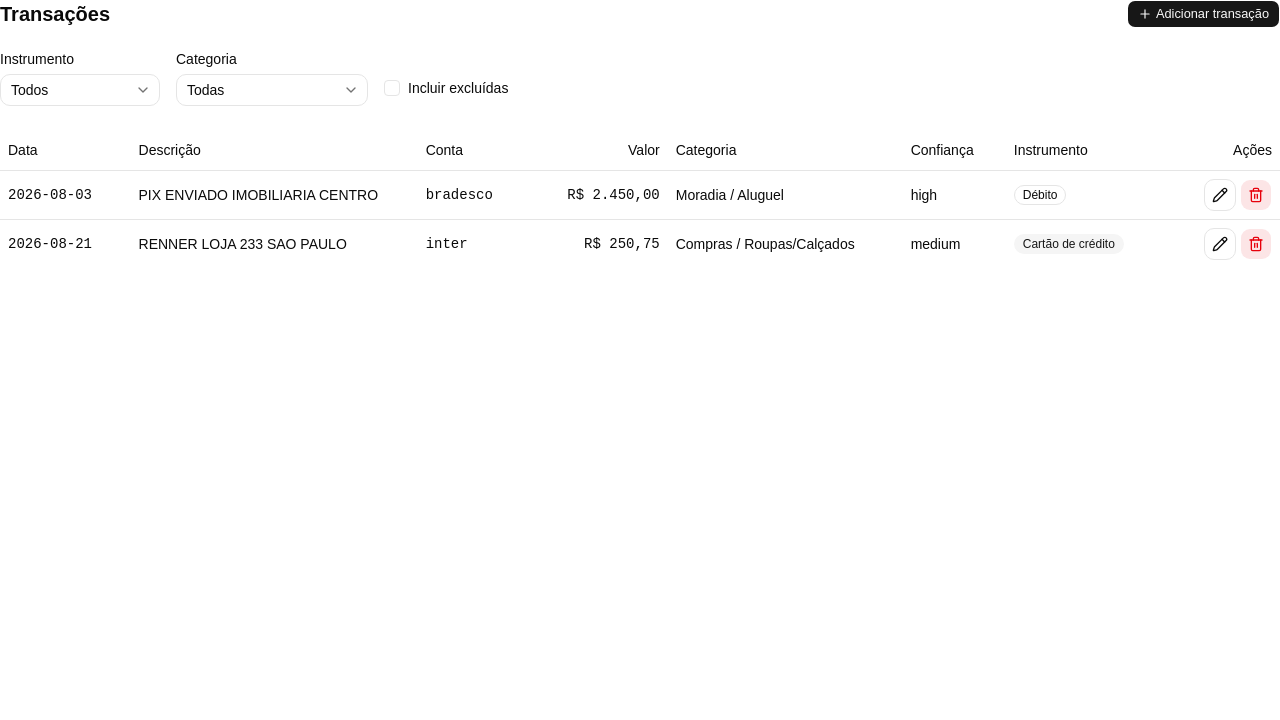
Test case: TransactionsPage › disables the submit button until the required fields are valid
Click the button "Adicionar transação" at (1203, 14), box [1127,0,1279,28]
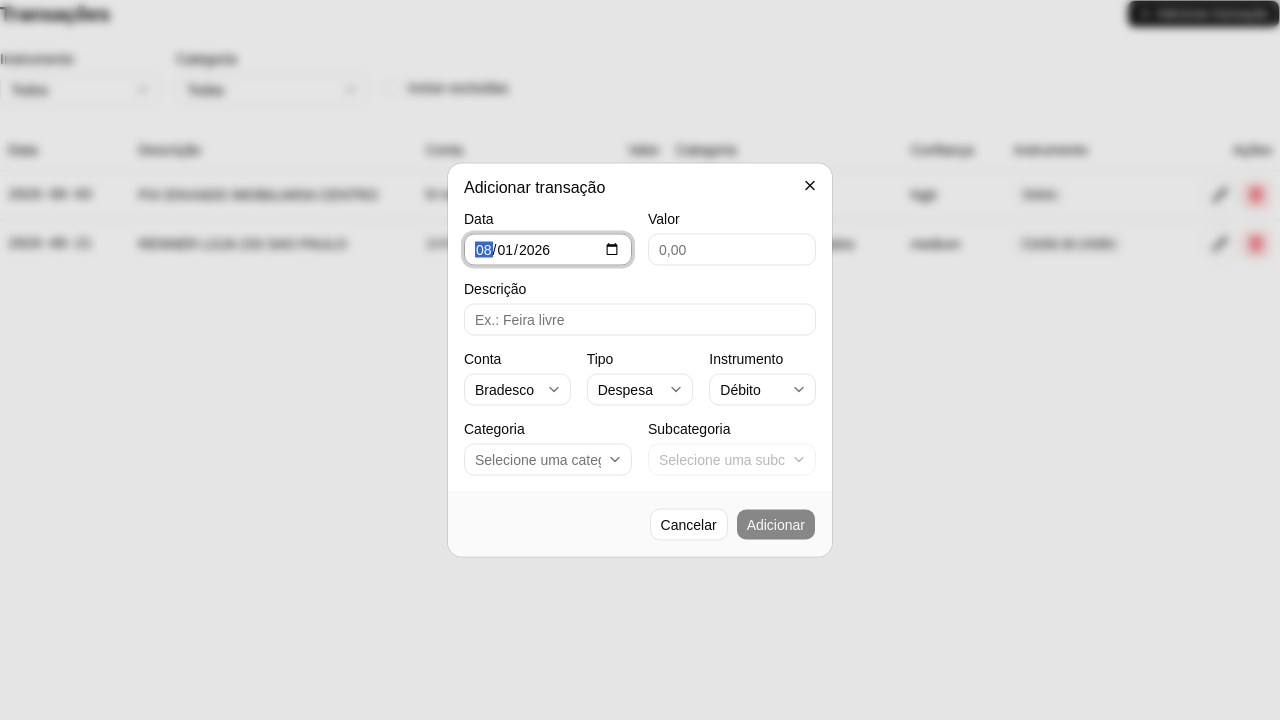
Check: the button "Adicionar" is disabled, box [736,508,816,540]
Type "Algo" into the field labelled "Descrição" at (640, 320), box [464,304,816,336]
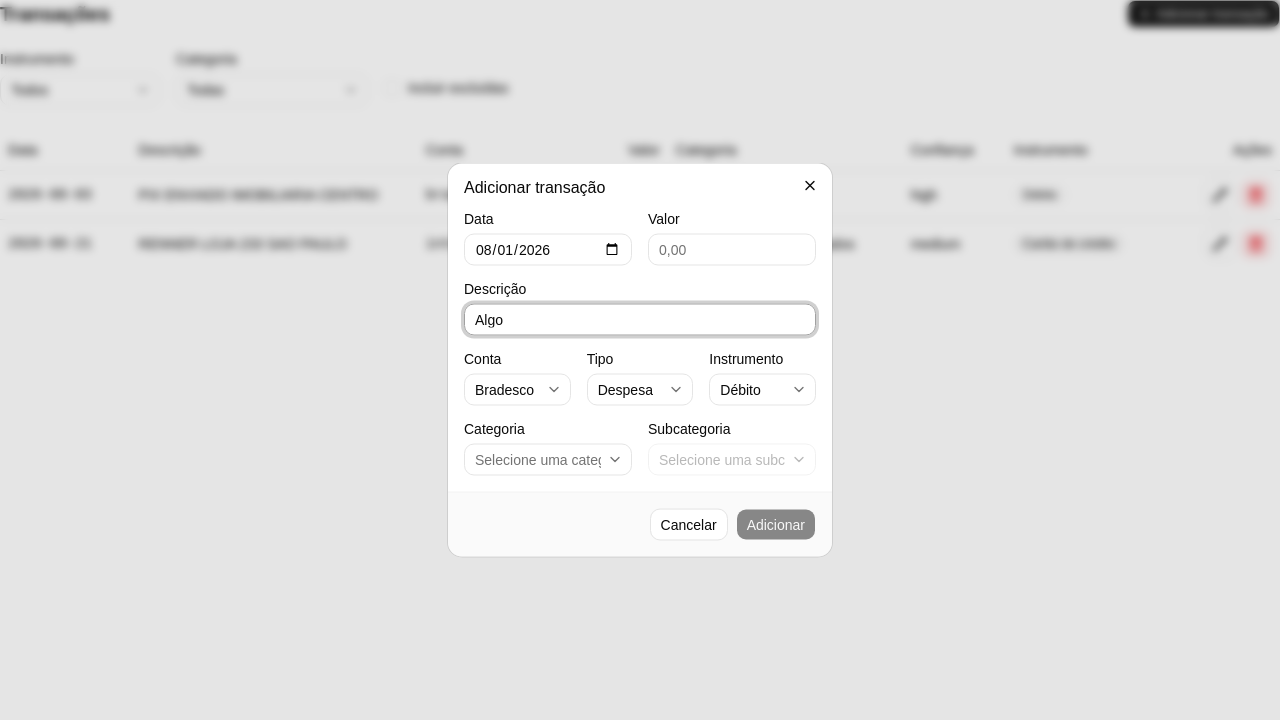
Type "10" into the number field labelled "Valor" at (732, 250), box [648,234,816,266]
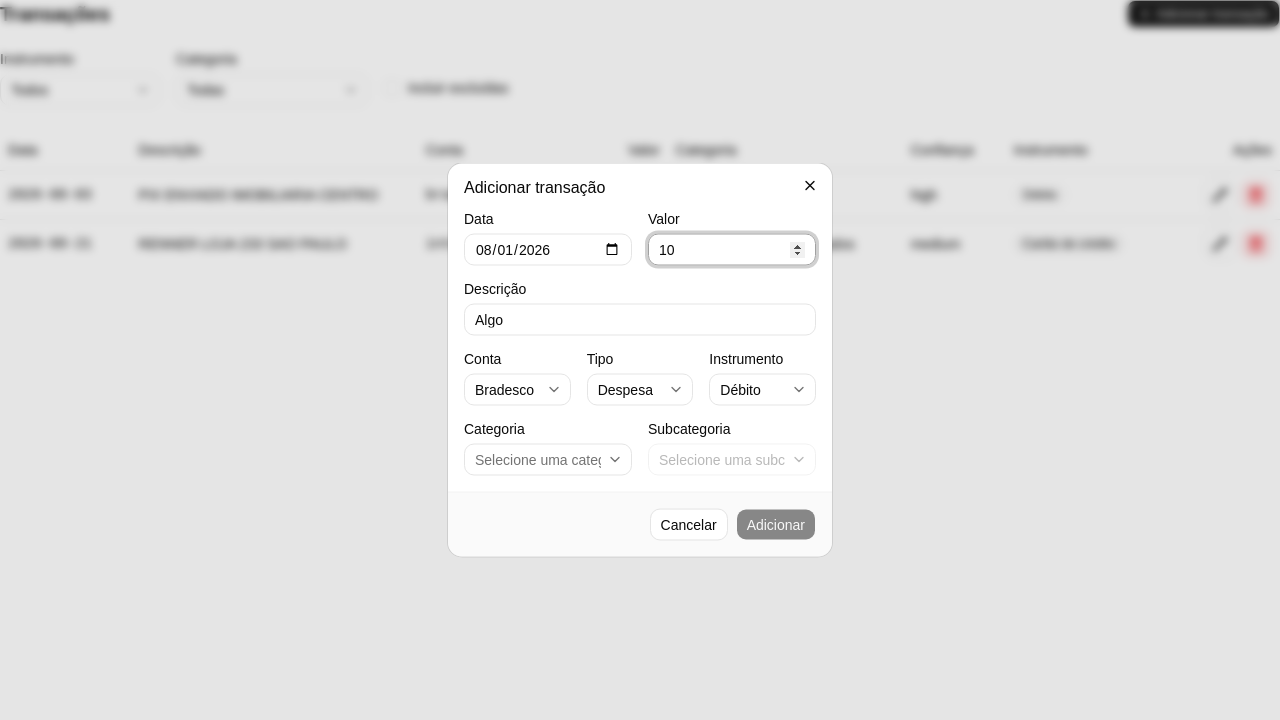
Check: the button "Adicionar" is disabled, box [736,508,816,540]
Click the dropdown labelled "categoria" at (548, 460), box [464,444,632,476]
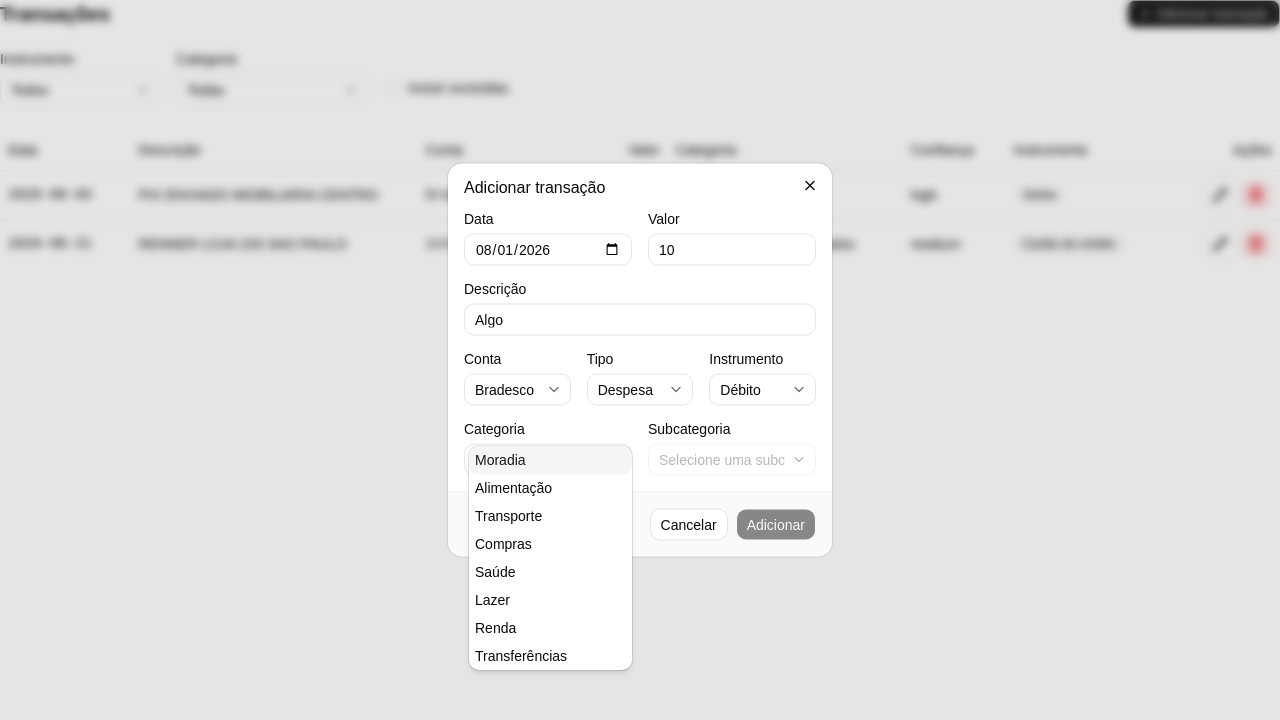
Click the option "Transferências" at (521, 656), box [475,648,567,664]
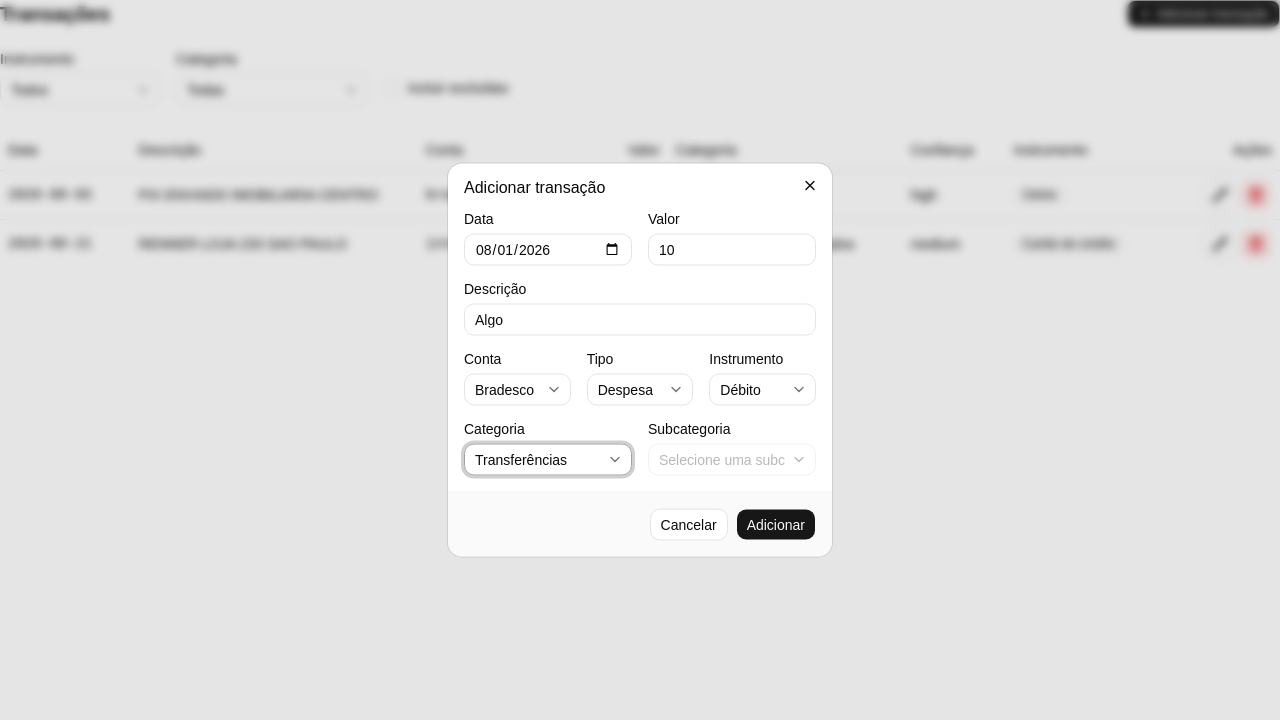
Check: the button "Adicionar" is enabled, box [736,508,816,540]
